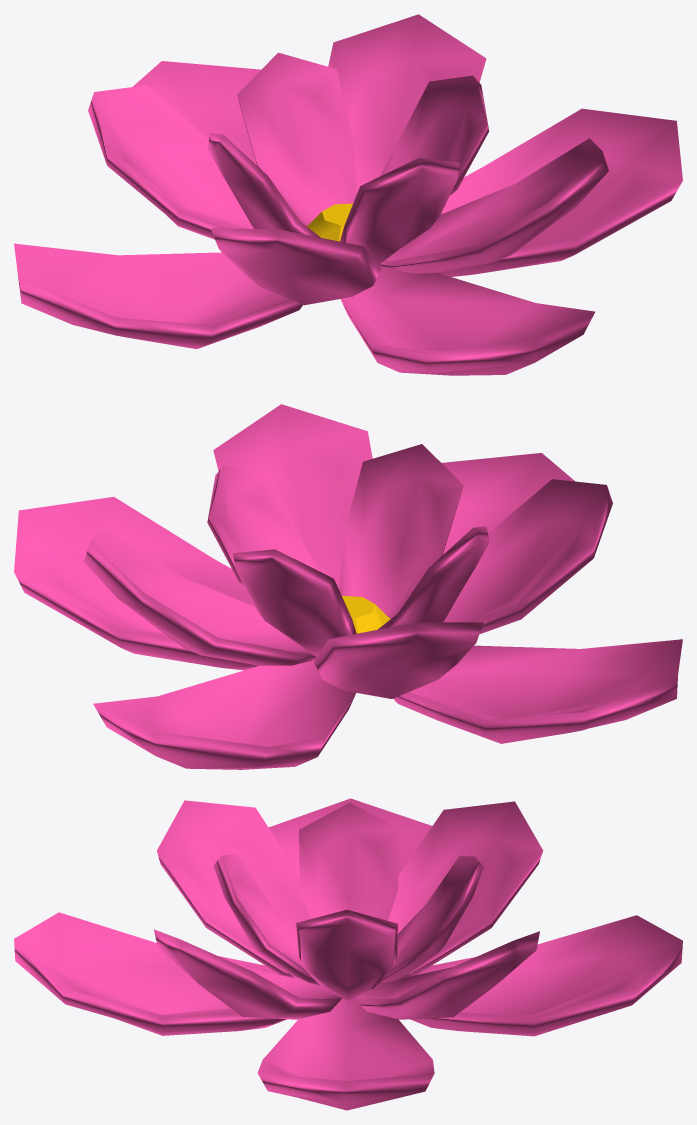
The model's file is pink-flower.glb.
The picture shows the model from 3 angles, top to bottom: view 1: azimuth 30°, elevation 25°; view 2: azimuth 150°, elevation 25°; view 3: azimuth 270°, elevation 25°; orthographic projection. The views are drawn at different scales.
Visible parts, largest first — view 1: Pink Flower; view 2: Pink Flower; view 3: Pink Flower.
Part boxes in pixels (x1,y1,x2,y2): Pink Flower: (14,14,682,375); Pink Flower: (14,404,682,769); Pink Flower: (14,798,682,1110).
Bounding box in the file's own units: 8.84 × 2.51 × 8.84.
